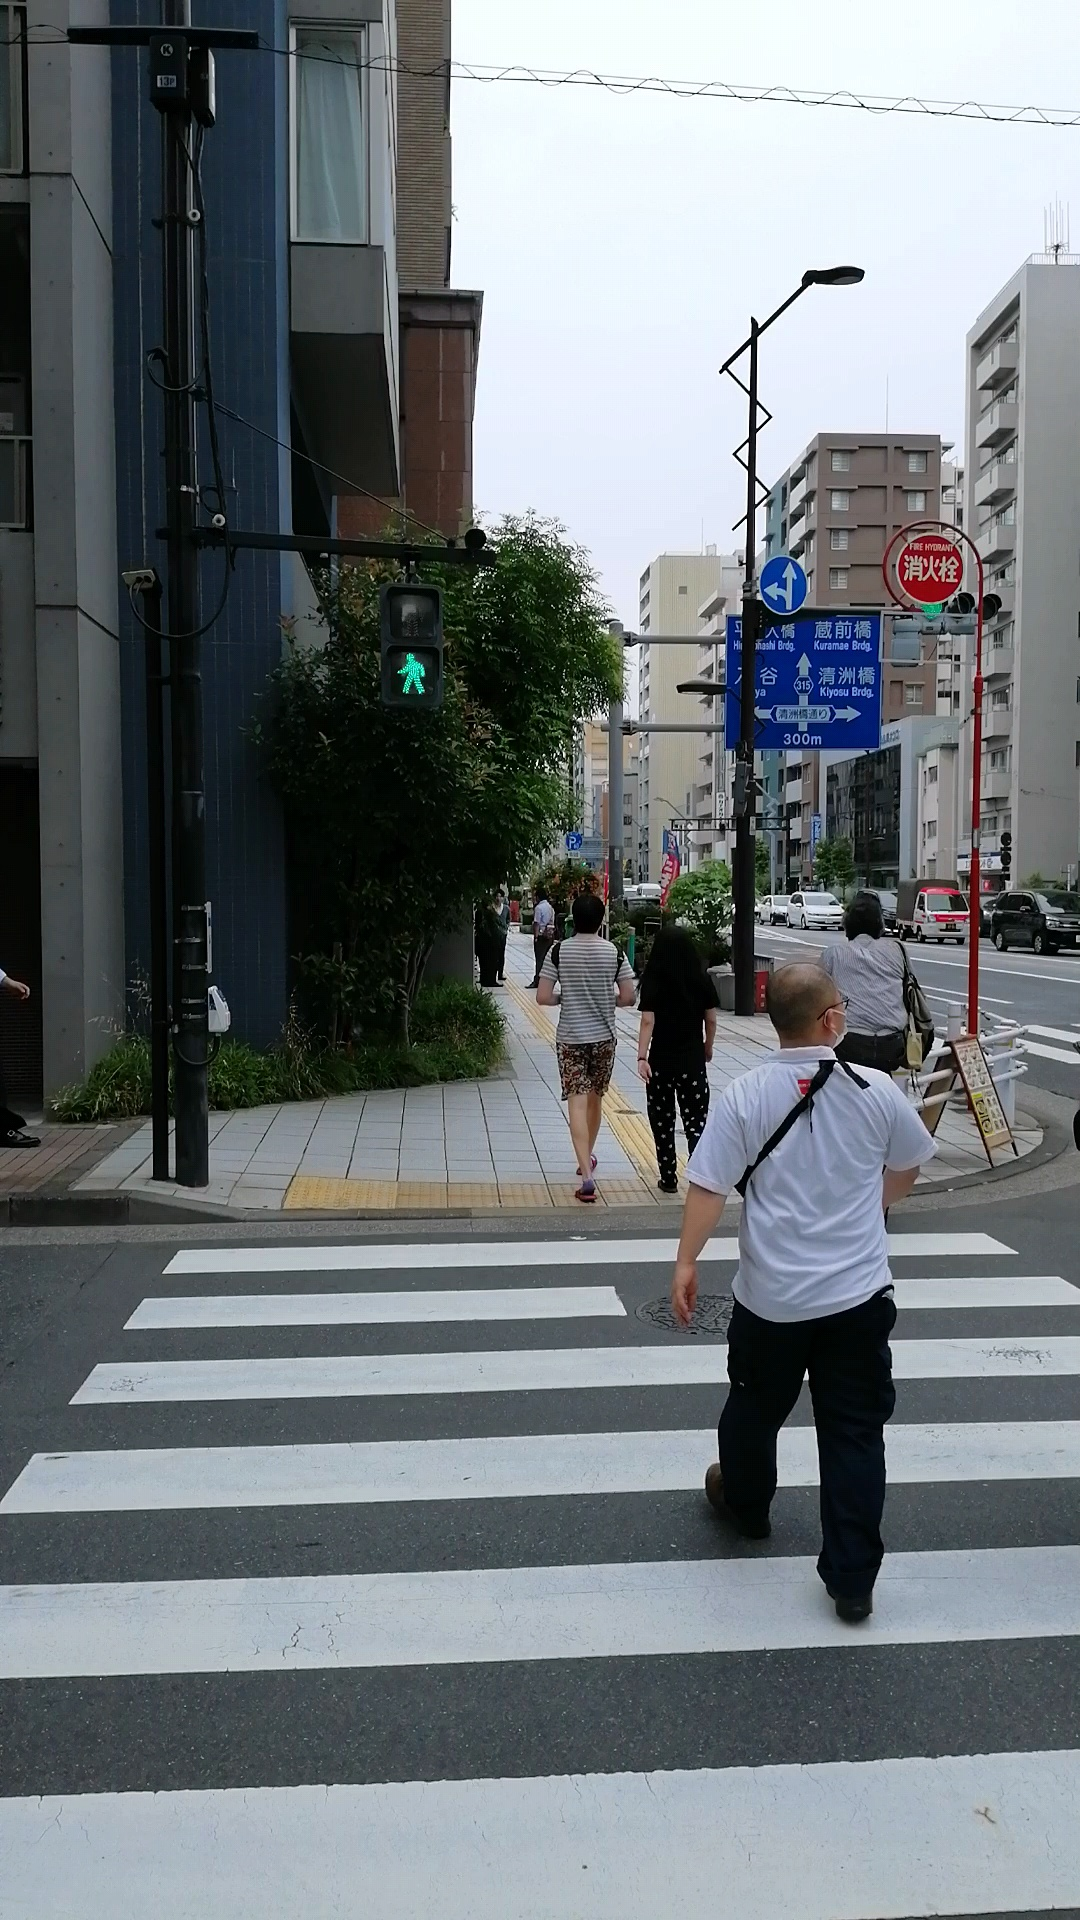green: (378, 583, 443, 708)
